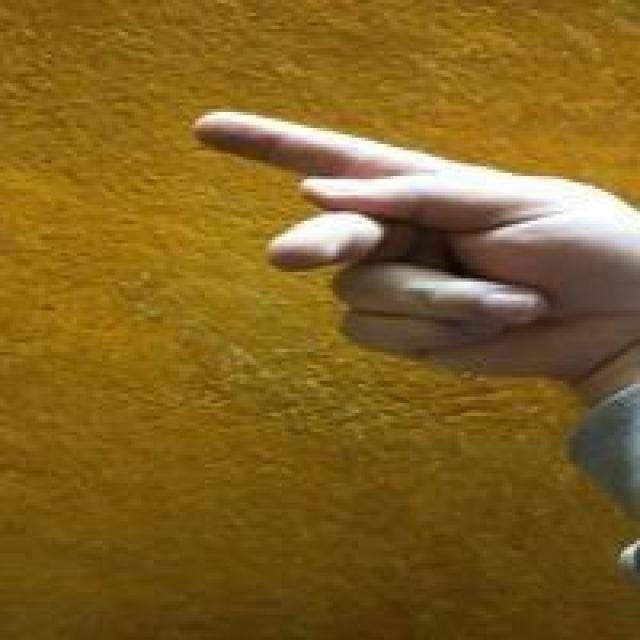K: (192, 93, 634, 397)
